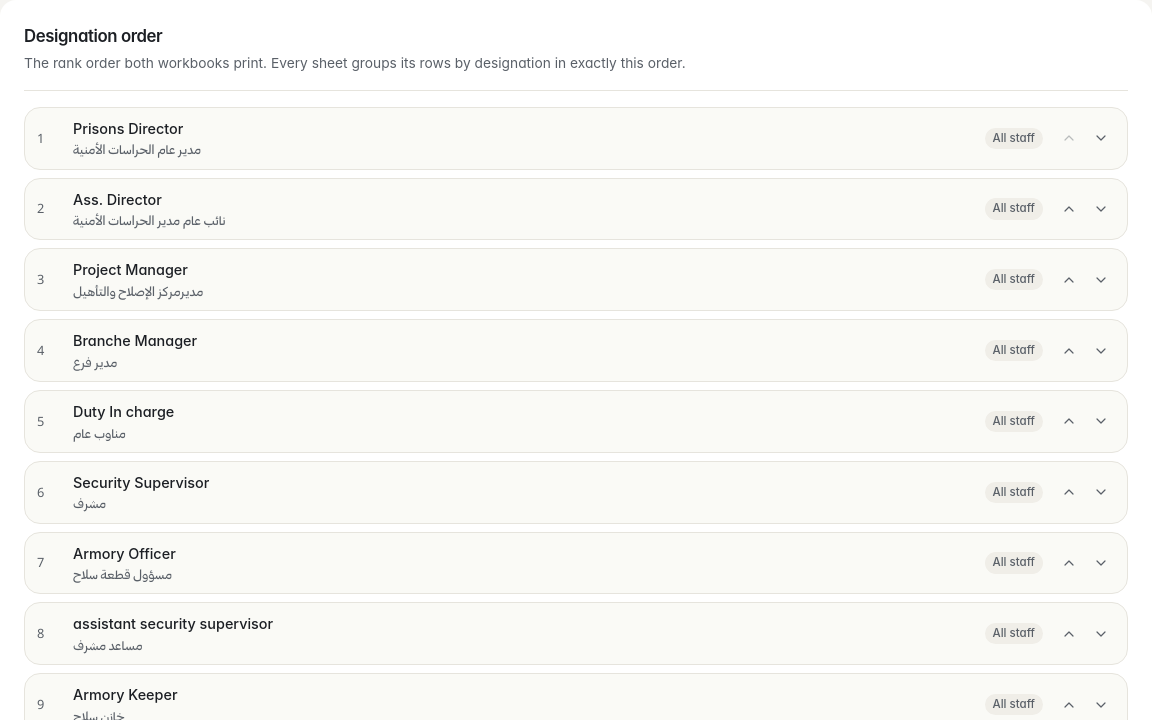
Scenario: DesignationCatalog › offers nothing to save until a row actually moves, and nothing to save after a revert
Check: the button "Save order" is not shown
Click the button named "Move Prisons Director down".
click(1101, 138)  # box [1087,124,1115,152]
(page scrolled)
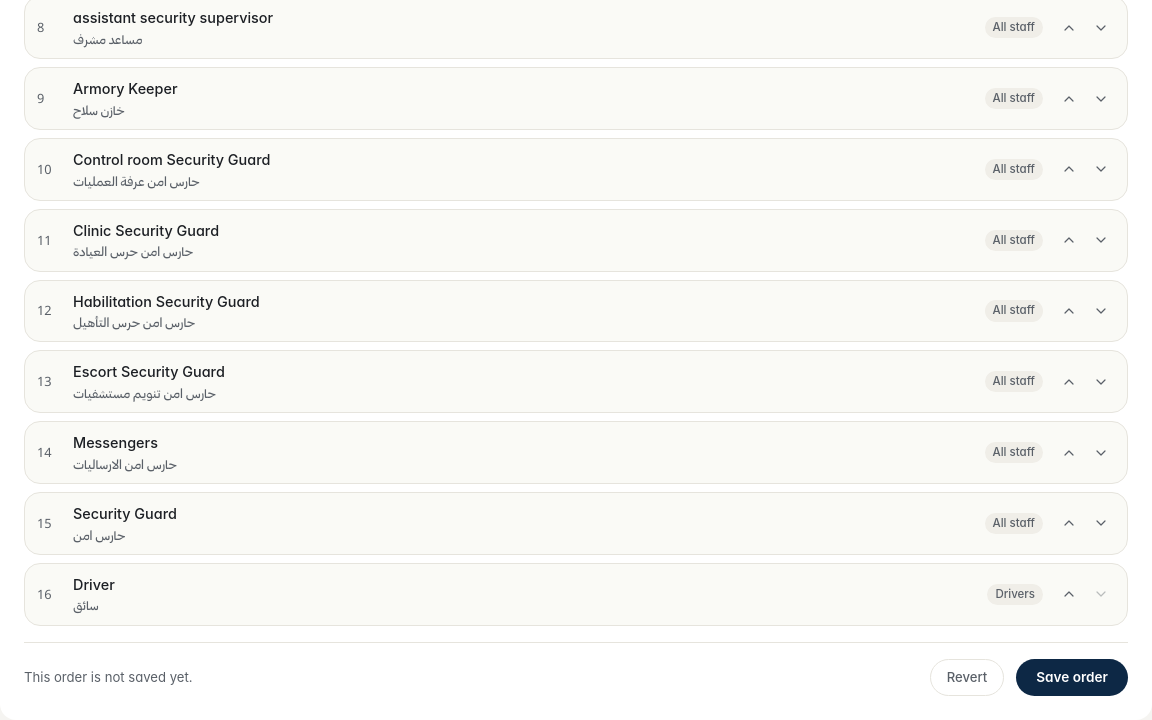
Check: the button "Save order" is shown, box [1016,659,1128,696]
Click the button "Revert".
click(967, 677)  # box [930,659,1004,696]
(page scrolled)
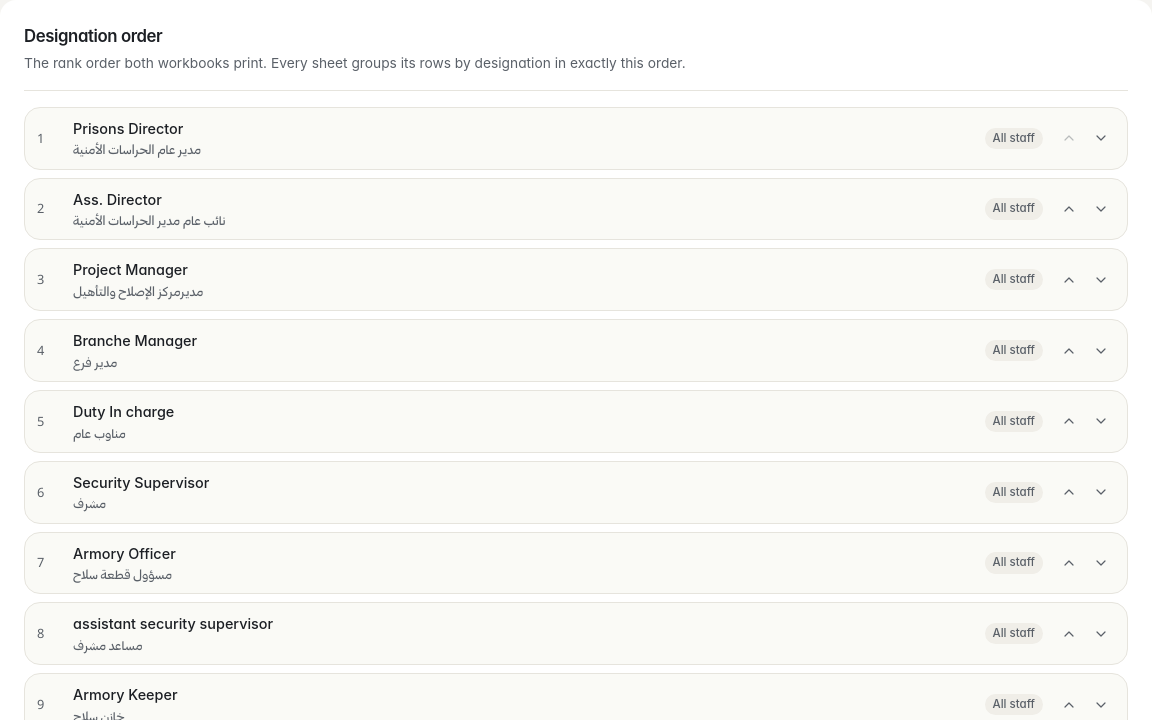
Check: the list item "1 Prisons Director مدير عام الحراسات الأمنية All staff" is shown, box [24,107,1128,170]
Check: the button "Save order" is gone
